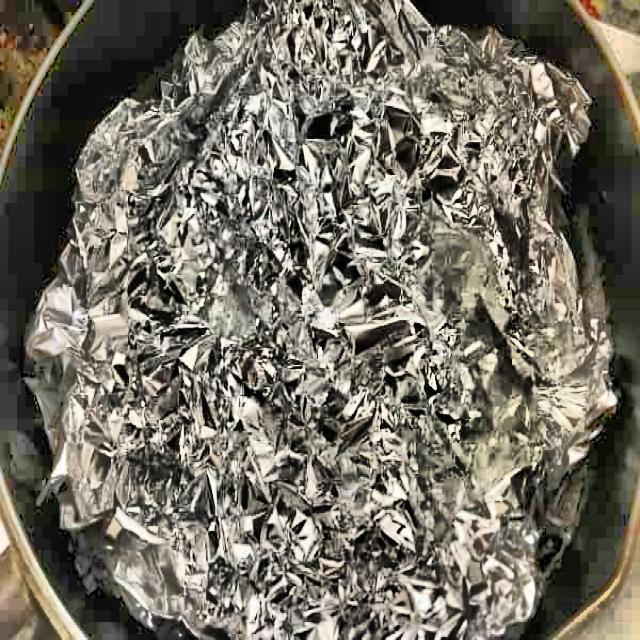Foil: (22, 0, 621, 640)
